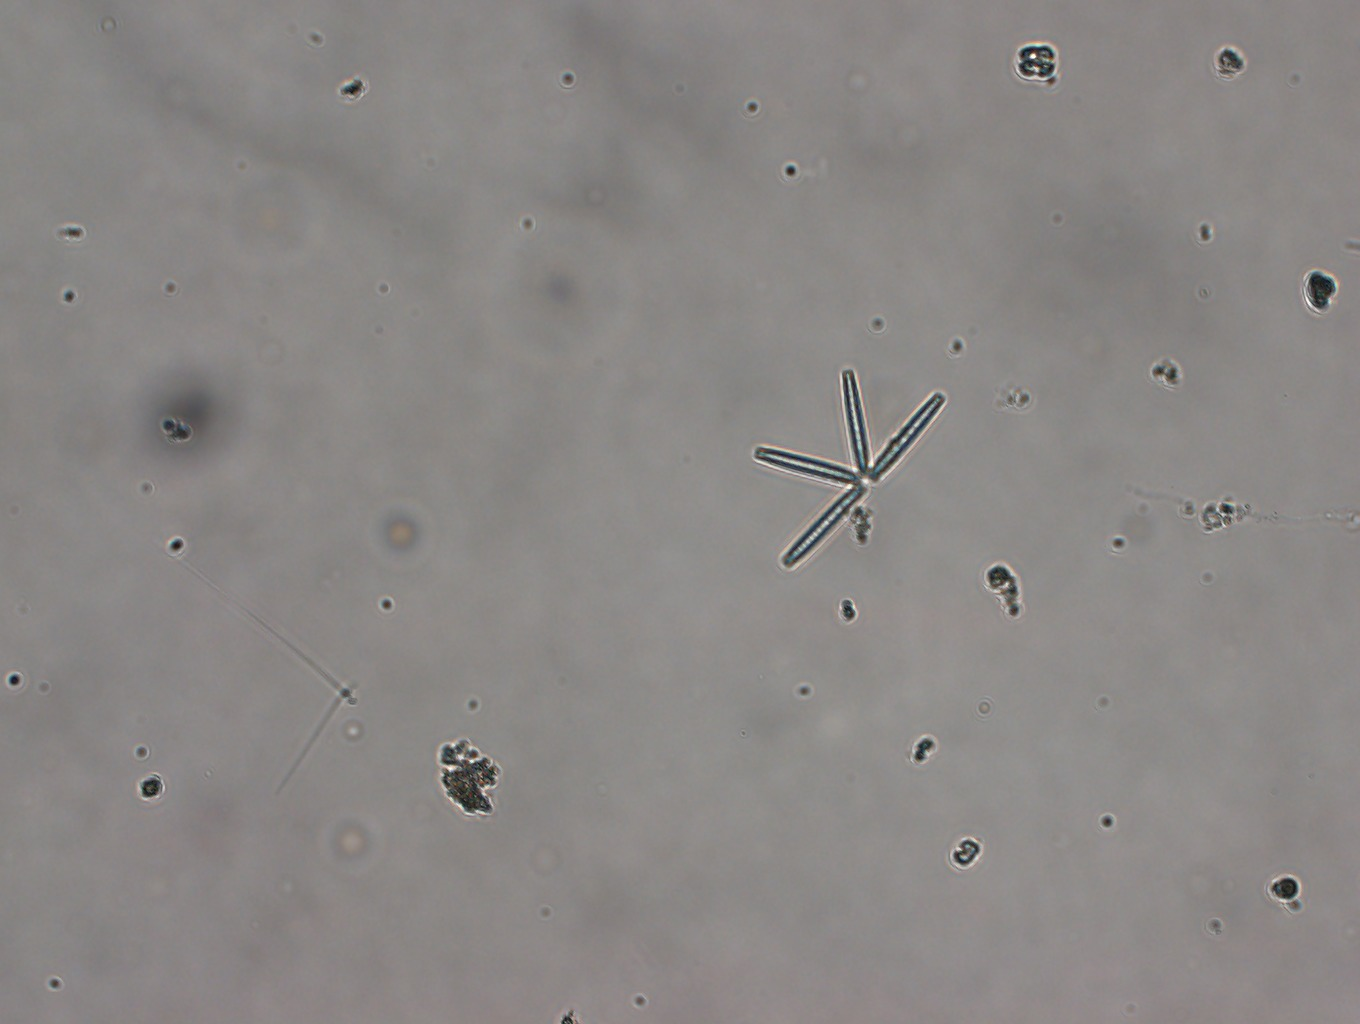thalassionema nitzschioides: (748, 360, 947, 577)
